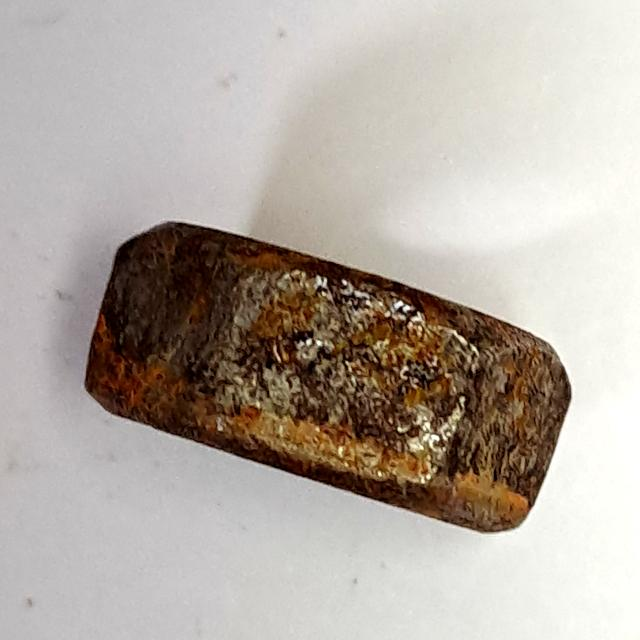Side_Rust: (70, 209, 583, 547)
